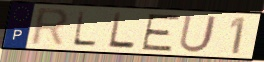1: (228, 15, 247, 56)
E: (139, 13, 182, 53)
L: (106, 11, 137, 51), (71, 10, 100, 49)
R: (27, 7, 71, 48)
U: (177, 14, 220, 54)
